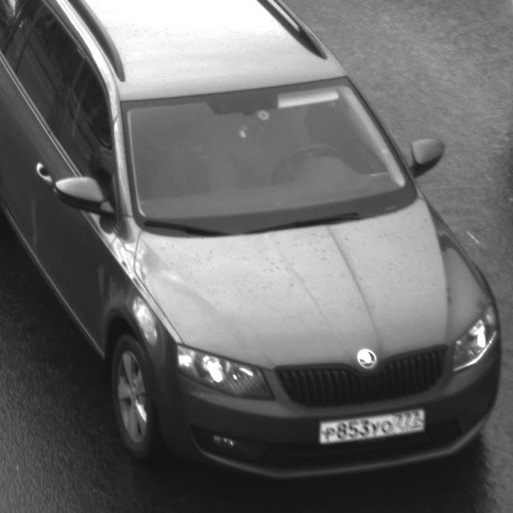plate: (306, 395, 435, 451)
